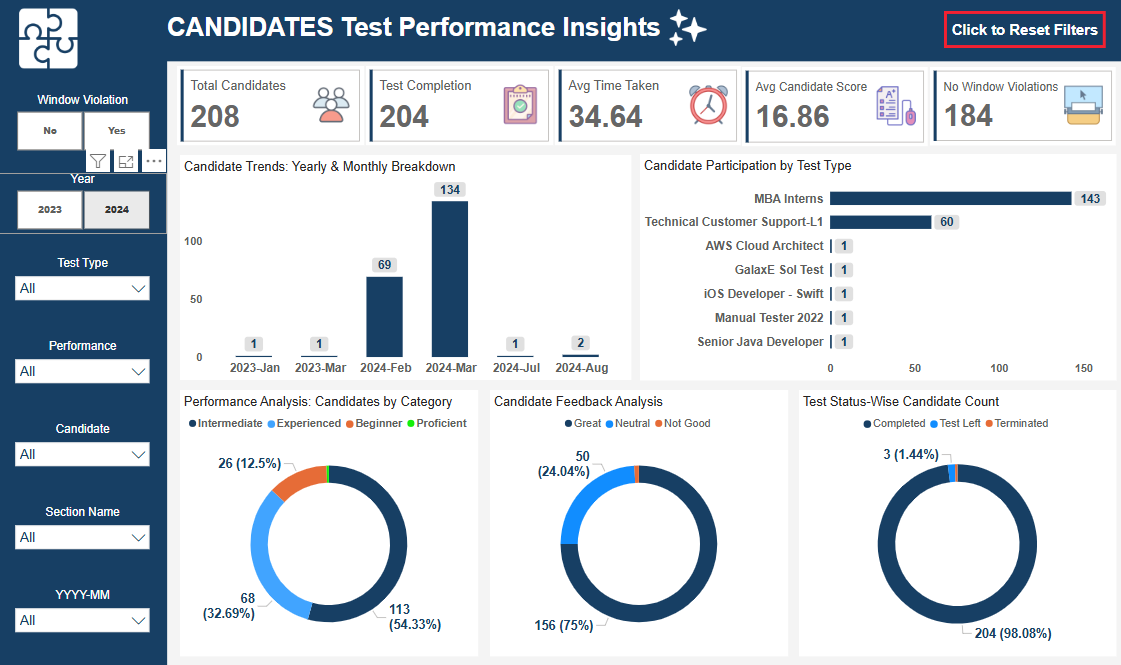

What the dashboard file says about the page in this screenshot:
{"tool":"powerbi","page":{"name":"Page 1","canvas":[1520,900],"ordinal":0},"visuals":[{"type":"shape","box":[214.3,0,1305.7,82.9],"z":0},{"type":"shape","box":[0,0,228.6,900],"z":1000},{"type":"cardVisual","title":"Total Candidates","fields":{"Data":["Measures Table.Total Candidates"]},"box":[241.4,88.6,252.9,107.1],"z":2000},{"type":"cardVisual","fields":{"Data":["Measures Table.Average Candidate Score"]},"box":[1006.1,90,251.4,107.1],"z":3000},{"type":"cardVisual","fields":{"Data":["Measures Table.Average Time Taken"]},"box":[752.1,88.6,251.4,107.1],"z":4000},{"type":"cardVisual","fields":{"Data":["Measures Table.Test Completion Count"]},"box":[496.8,88.6,252.9,107.1],"z":5000},{"type":"cardVisual","fields":{"Data":["Measures Table.Total No Window Violations"]},"box":[1260,90,251.4,105.7],"z":6000},{"type":"image","box":[0,0,135.1,104.1],"z":7000},{"type":"image","box":[879.2,6.2,105.6,60.6],"z":8000},{"type":"actionButton","title":"CANDIDATES Test Performance Insights","box":[228.3,17.1,678.8,49.7],"z":9000},{"type":"clusteredColumnChart","title":"Candidate Trends: Yearly & Monthly Breakdown","fields":{"Category":["Calendar date.Year-Month"],"Y":["Measures Table.Total Candidates"]},"box":[245.7,210,610,304.3],"z":10000},{"type":"barChart","title":"Candidate Participation by Test Type","fields":{"Category":["Section Level Report.Test_Name"],"Y":["Measures Table.Total Candidates"]},"box":[867.1,208.6,644.3,305.7],"z":11000},{"type":"donutChart","title":"Performance Analysis: Candidates by Category","fields":{"Y":["Measures Table.Total Candidates"],"Category":["Section Level Report.Performance_Category"]},"box":[245.7,527.1,402.9,360],"z":12000},{"type":"slicer","title":"Window Violation ","fields":{"Values":["Section Level Report.Window_Violation - 2"]},"box":[0,127.1,228.6,82.9],"z":13000},{"type":"slicer","title":"Year ","fields":{"Values":["Calendar date.Year"]},"box":[0,233.6,228.6,82.9],"z":14000},{"type":"slicer","title":"Test Type","fields":{"Values":["Section Level Report.Test_Name"]},"box":[12.9,340,201.4,88.6],"z":15000},{"type":"slicer","title":"Performance","fields":{"Values":["Section Level Report.Performance_Category"]},"box":[12.9,452.1,201.4,88.6],"z":16000},{"type":"slicer","title":"Candidate","fields":{"Values":["Section Level Report.Candidate_Feedback"]},"box":[12.9,564.3,201.4,88.6],"z":17000},{"type":"slicer","title":"Section Name","fields":{"Values":["Section Level Report.Section_Name"]},"box":[12.9,676.4,201.4,88.6],"z":18000},{"type":"slicer","title":"YYYY-MM","fields":{"Values":["Calendar date.Year-Month"]},"box":[12.9,788.6,201.4,88.6],"z":19000},{"type":"donutChart","title":"Test Status-Wise Candidate Count","fields":{"Category":["Section Level Report.Test_Status"],"Y":["Measures Table.Total Candidates"]},"box":[1082.9,527.1,428.6,360],"z":20000},{"type":"donutChart","title":"Candidate Feedback Analysis","fields":{"Category":["Section Level Report.Candidate_Feedback"],"Y":["Measures Table.Total Candidates"]},"box":[664.3,527.1,402.9,360],"z":21000},{"type":"actionButton","box":[1278.6,14.3,218.6,50],"z":22000}]}

Visuals, with their boxes in screenshot pixels (x1, y1, x2, y2), scaled from the page's 1520x900 canvas onto the 1121x665 screenshot:
shape: crop(158, 0, 1120, 61)
shape: crop(0, 0, 169, 664)
"Total Candidates" cardVisual: crop(178, 65, 365, 145)
cardVisual - Measures Table.Average Candidate Score: crop(742, 66, 927, 146)
cardVisual - Measures Table.Average Time Taken: crop(555, 65, 740, 145)
cardVisual - Measures Table.Test Completion Count: crop(366, 65, 553, 145)
cardVisual - Measures Table.Total No Window Violations: crop(929, 66, 1115, 145)
image: crop(0, 0, 100, 77)
image: crop(648, 5, 726, 49)
"CANDIDATES Test Performance Insights" actionButton: crop(168, 13, 669, 49)
"Candidate Trends: Yearly & Monthly Breakdown" clusteredColumnChart: crop(181, 155, 631, 380)
"Candidate Participation by Test Type" barChart: crop(639, 154, 1115, 380)
"Performance Analysis: Candidates by Category" donutChart: crop(181, 389, 478, 655)
"Window Violation " slicer: crop(0, 94, 169, 155)
"Year " slicer: crop(0, 173, 169, 234)
"Test Type" slicer: crop(10, 251, 158, 317)
"Performance" slicer: crop(10, 334, 158, 400)
"Candidate" slicer: crop(10, 417, 158, 482)
"Section Name" slicer: crop(10, 500, 158, 565)
"YYYY-MM" slicer: crop(10, 583, 158, 648)
"Test Status-Wise Candidate Count" donutChart: crop(799, 389, 1115, 655)
"Candidate Feedback Analysis" donutChart: crop(490, 389, 787, 655)
actionButton: crop(943, 11, 1104, 48)
